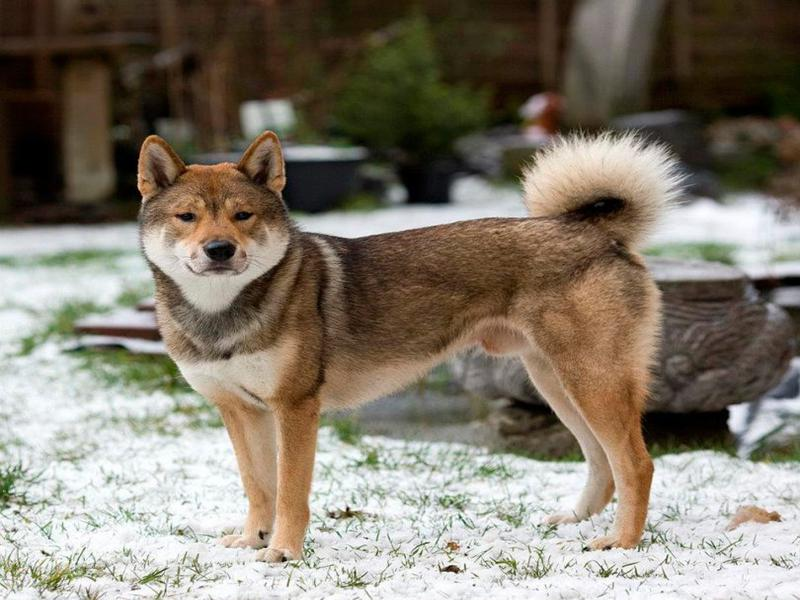dog_stand: (130, 125, 693, 565)
